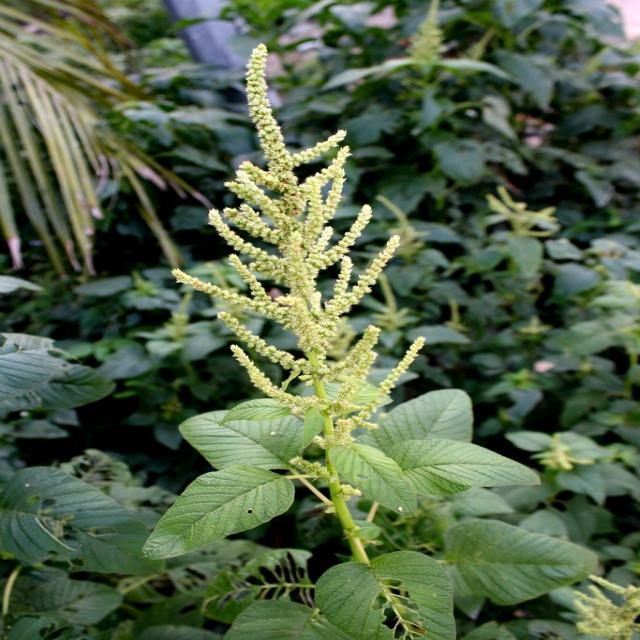Medicinal-Arive Dantu: (173, 59, 462, 640)
